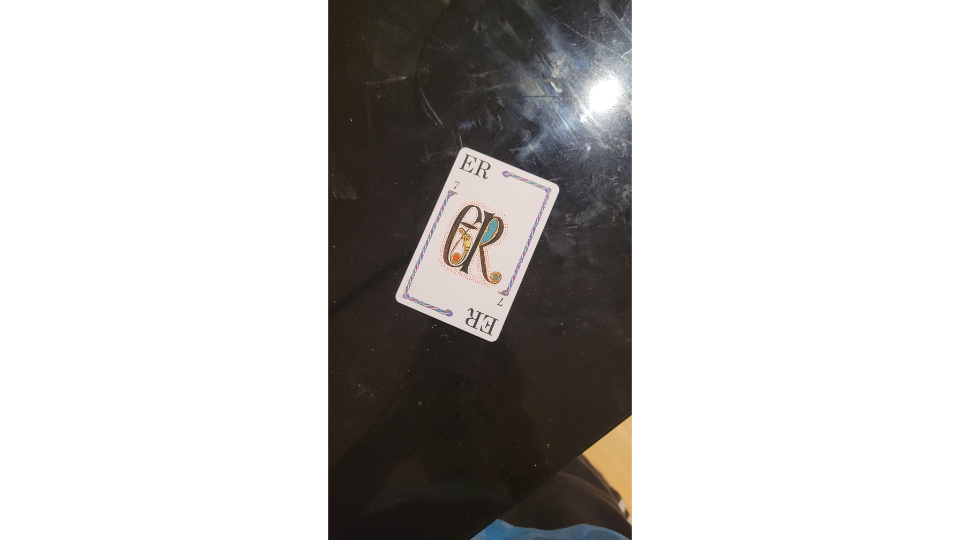ER: (392, 144, 564, 347)
